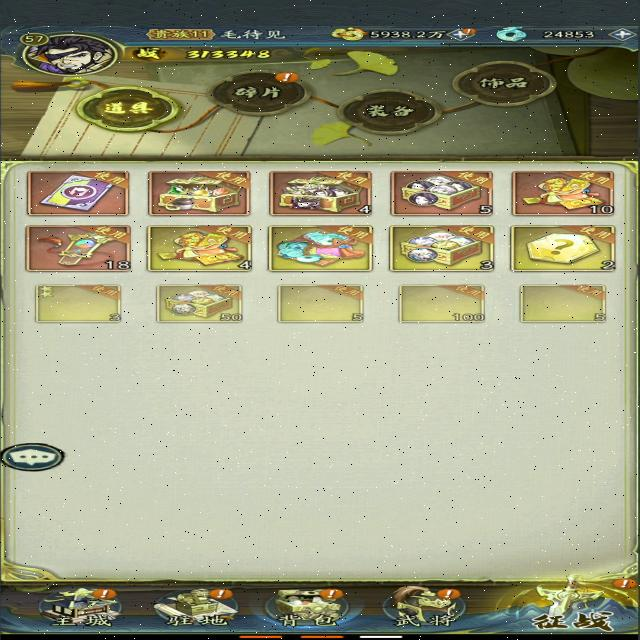hint-reddot: (433, 586, 473, 602), (311, 586, 350, 602), (209, 585, 242, 603), (606, 575, 640, 590), (268, 69, 301, 84), (90, 586, 119, 600), (453, 25, 482, 37)
navigation-bag: (258, 581, 360, 631)
navigation-hero: (499, 572, 640, 638), (374, 580, 478, 632)
navigation-main: (31, 582, 139, 633)
navigation-role: (6, 26, 129, 80)
navigation-station-on: (152, 582, 248, 632)
operation-decorate: (444, 55, 567, 110)
operation-equipment: (334, 83, 446, 137)
operation-pieces: (198, 62, 320, 120)
operation-tools: (71, 83, 183, 135)
